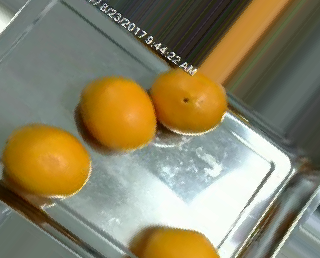Orange: (3, 122, 92, 198), (80, 74, 156, 150), (150, 68, 227, 135)
